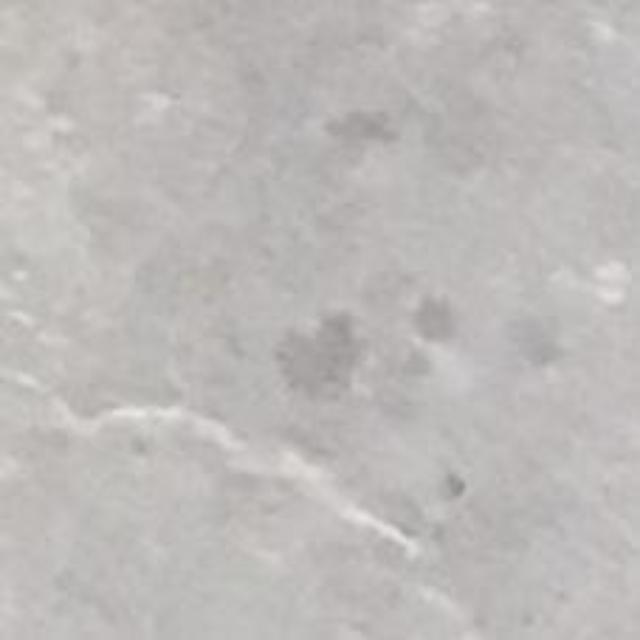crack: (12, 378, 422, 561)
